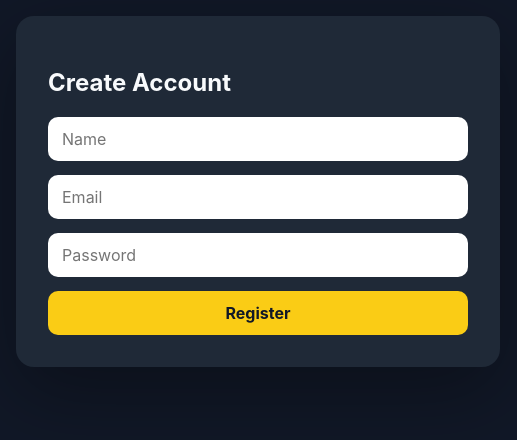
Test: Auth Flow - Register, Login, and Logout › TC6 - Duplicate email registration shows error message
In the field with test id "name-input": (258,139) left=48, top=117, right=468, bottom=161, type "Alice"
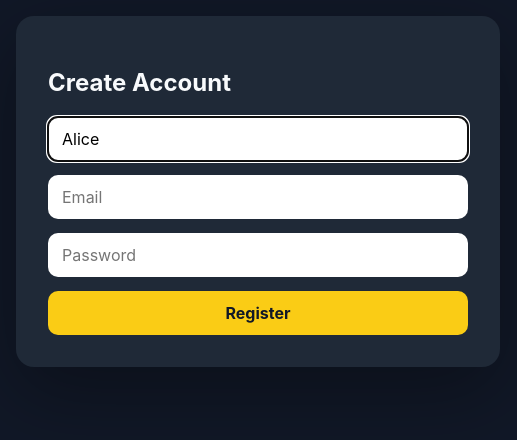
In the field with test id "email-input": (258,197) left=48, top=175, right=468, bottom=219, type "alice@test.com"
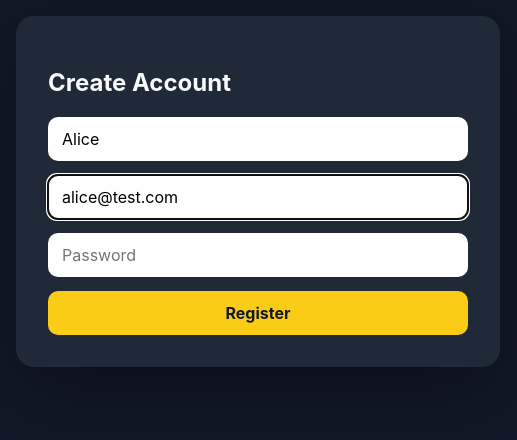
In the password field with test id "password-input": (258,255) left=48, top=233, right=468, bottom=277, type "secret123"
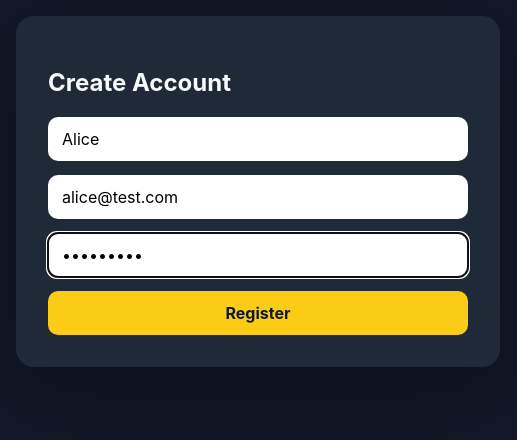
Click the button with test id "register-btn": (258,313) left=48, top=291, right=468, bottom=335
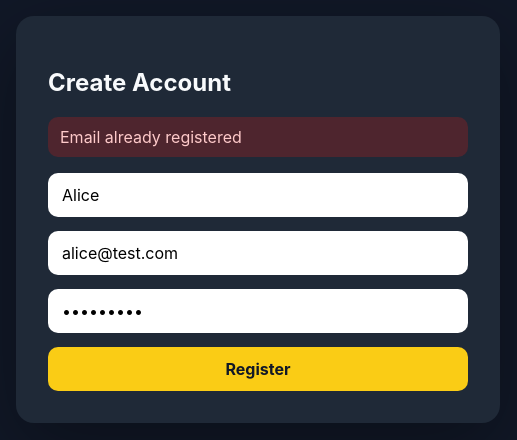
Result: the text with test id "error-msg" reads "Email already registered" at left=60, top=127, right=242, bottom=147
